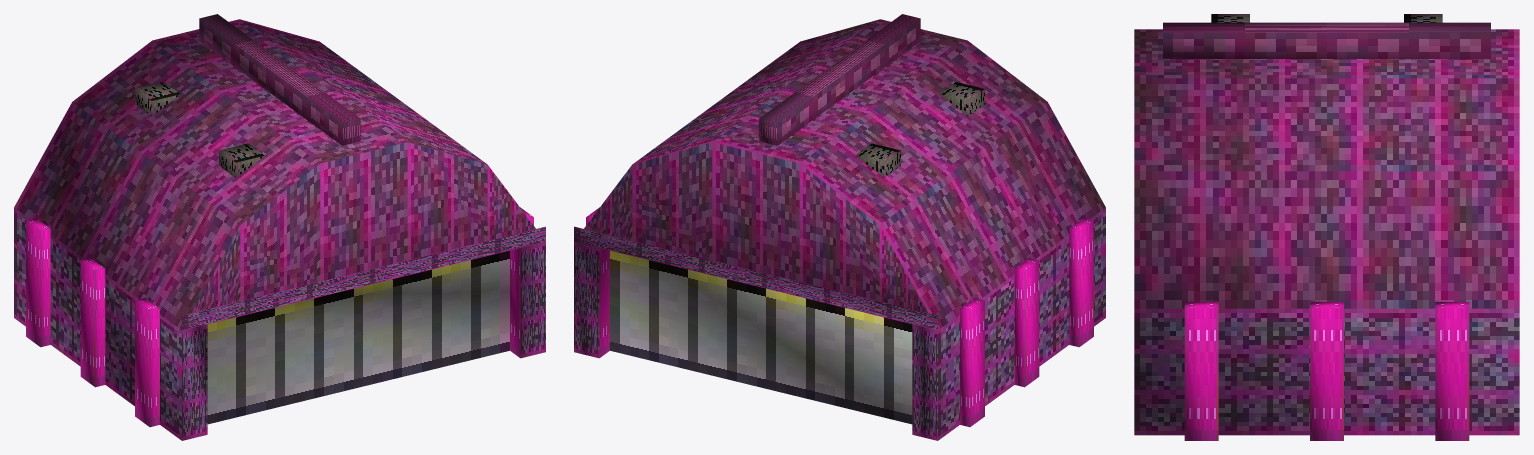
The model's file is hangar.glb.
The picture shows the model from 3 angles, left to right: view 1: azimuth 30°, elevation 25°; view 2: azimuth 150°, elevation 25°; view 3: azimuth 270°, elevation 25°; orthographic projection. The views are drawn at different scales.
Parts seen in each view (by area): view 1: Model; view 2: Model; view 3: Model.
Boxes of the visible parts, bbox=[...] form: Model: bbox=[14, 14, 545, 440]; Model: bbox=[574, 14, 1105, 440]; Model: bbox=[1134, 14, 1519, 440].
Size of the model in its own units: 32.74 by 21.7 by 24.8.
Materials: 1 (1 with a texture image).
